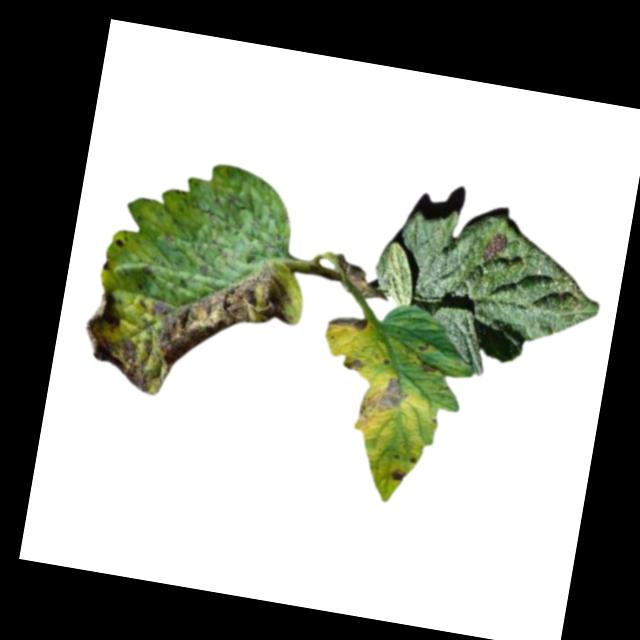Early_blight: (76, 232, 306, 417), (354, 371, 409, 436), (479, 230, 510, 264), (329, 311, 370, 332), (339, 353, 363, 371), (418, 360, 439, 375), (389, 465, 406, 482)
